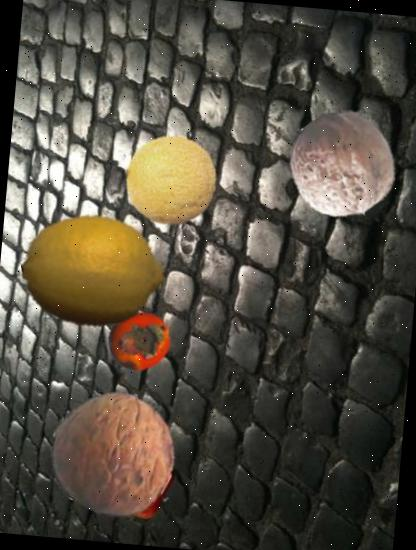Cantaloupe: (120, 131, 221, 232)
Kaki: (106, 307, 174, 376)
Lemon: (17, 196, 170, 349)
Strawberry: (110, 459, 179, 528)
Walnut: (47, 386, 182, 520), (284, 108, 400, 224)
